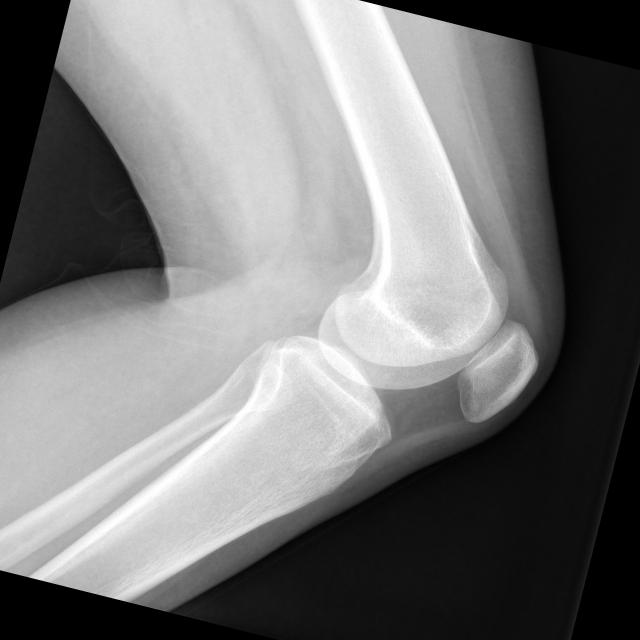Knee: (242, 221, 562, 514)
